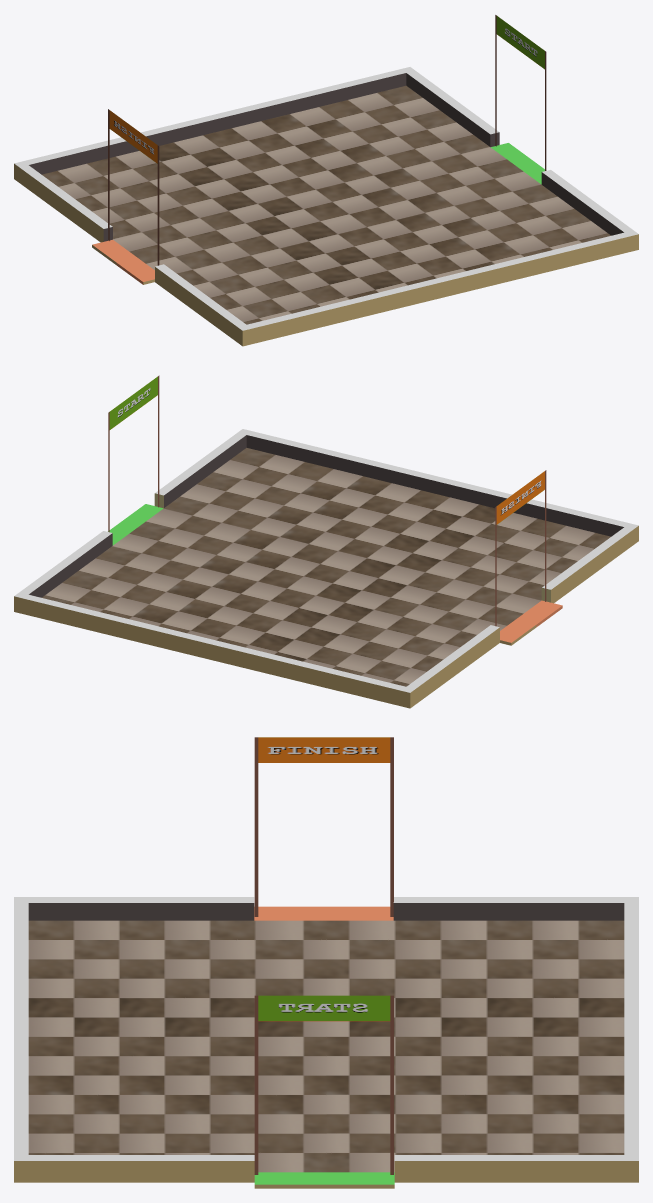
Rendered from ground.glb.
The picture shows the model from 3 angles, top to bottom: view 1: azimuth 30°, elevation 25°; view 2: azimuth 150°, elevation 25°; view 3: azimuth 270°, elevation 25°; orthographic projection. The views are drawn at different scales.
Parts seen in each view (by area): view 1: Cube; view 2: Cube; view 3: Cube.
Boxes of the visible parts, left/top/right/bottom form: Cube: left=14, top=15, right=638, bottom=346; Cube: left=14, top=375, right=638, bottom=708; Cube: left=14, top=737, right=638, bottom=1188.
Bounding box in the file's own units: 15.36 × 4.74 × 14.6.
9 materials, 2 textured.
